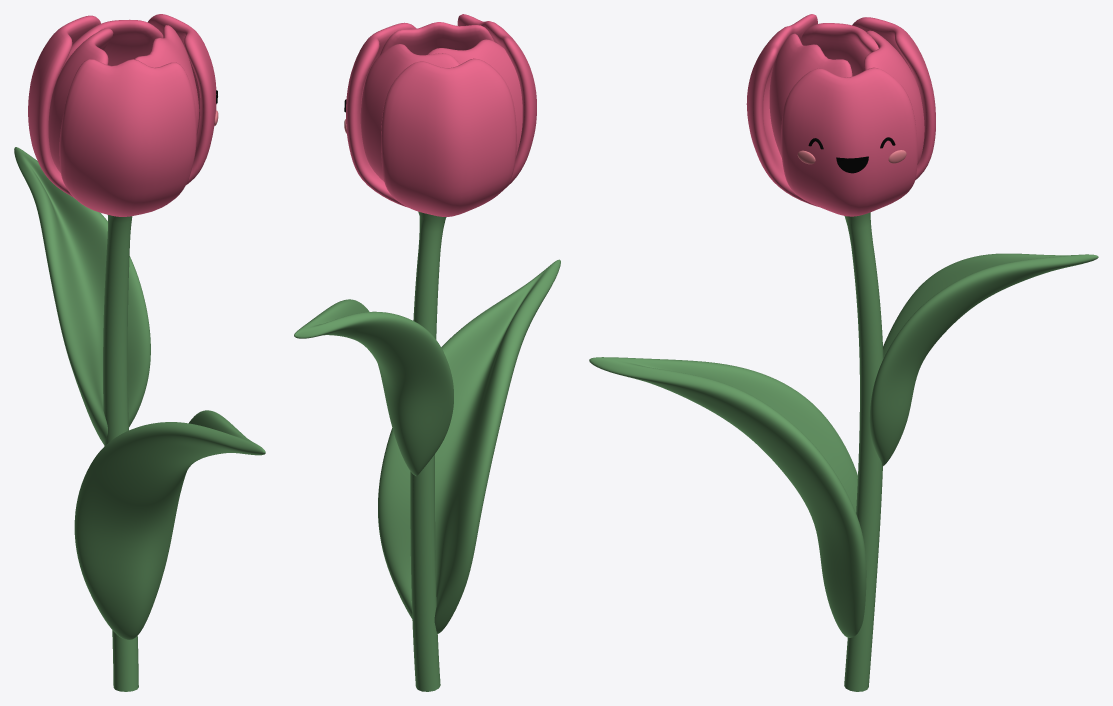
File: vhappy.glb
The picture shows the model from 3 angles, left to right: view 1: azimuth 30°, elevation 25°; view 2: azimuth 150°, elevation 25°; view 3: azimuth 270°, elevation 25°; orthographic projection. The views are drawn at different scales.
Visible parts, largest first — view 1: Left Leaf, Petal 6, Right Leaf, Stem, Petal 3, Petal 4, Petal 1, Petal 2, Petal 5; view 2: Left Leaf, Petal 3, Right Leaf, Stem, Petal 2, Petal 4, Petal 6, Petal 5, Petal 1; view 3: Left Leaf, Petal 4, Right Leaf, Stem, Petal 6, Petal 5, Petal 3, Petal 1, Petal 2.
Part boxes in pixels (bbox=[...]): Left Leaf: bbox=[74, 410, 265, 639]; Petal 6: bbox=[59, 59, 196, 216]; Right Leaf: bbox=[14, 147, 150, 444]; Stem: bbox=[103, 215, 138, 691]; Petal 3: bbox=[28, 15, 100, 196]; Petal 4: bbox=[147, 14, 216, 184]; Petal 1: bbox=[48, 28, 113, 172]; Petal 2: bbox=[59, 19, 163, 74]; Petal 5: bbox=[134, 25, 199, 132]; Left Leaf: bbox=[378, 259, 560, 633]; Petal 3: bbox=[381, 58, 516, 216]; Right Leaf: bbox=[294, 299, 453, 476]; Stem: bbox=[410, 211, 446, 691]; Petal 2: bbox=[360, 44, 460, 181]; Petal 4: bbox=[346, 22, 416, 207]; Petal 6: bbox=[457, 14, 536, 188]; Petal 5: bbox=[380, 22, 494, 55]; Petal 1: bbox=[427, 39, 522, 157]; Left Leaf: bbox=[589, 357, 866, 637]; Petal 4: bbox=[781, 67, 917, 216]; Right Leaf: bbox=[869, 253, 1098, 466]; Stem: bbox=[844, 212, 883, 691]; Petal 6: bbox=[746, 14, 818, 206]; Petal 5: bbox=[769, 33, 852, 157]; Petal 3: bbox=[852, 17, 935, 180]; Petal 1: bbox=[800, 23, 878, 75]; Petal 2: bbox=[864, 30, 924, 164].
Size of the model in its own units: 1.71 by 6.34 by 4.53.
